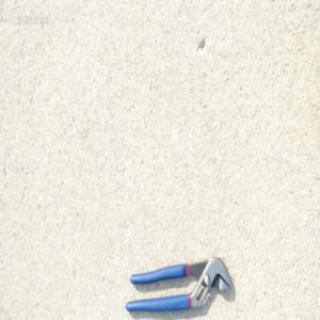Pliertrack_idkeyframe: (125, 254, 232, 308)
